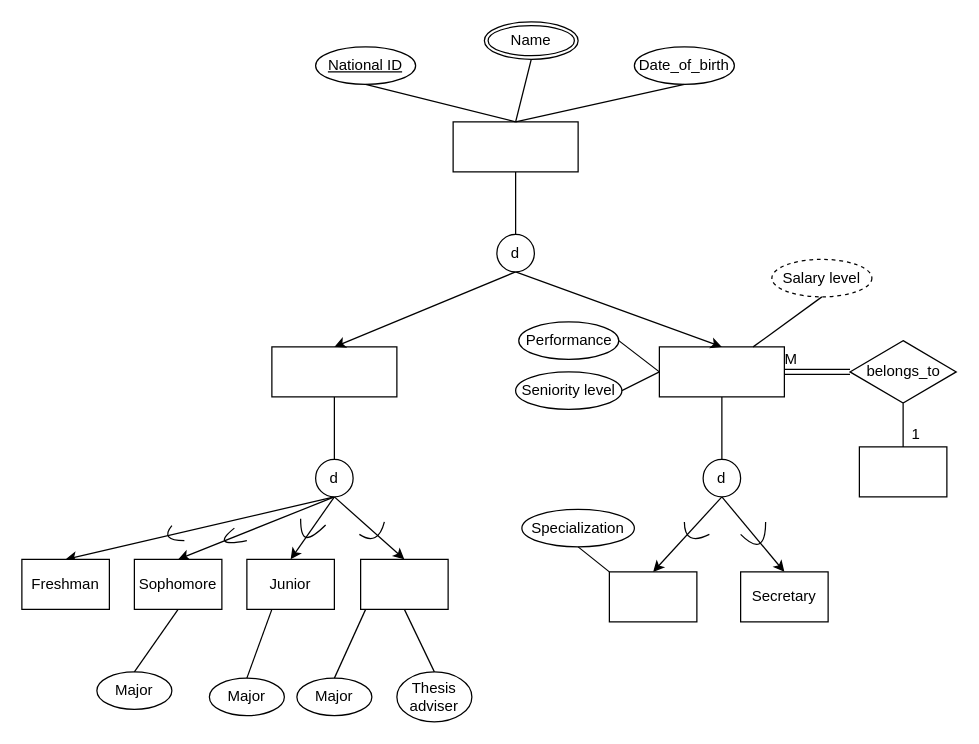
Image size: 979x744. Some labels were removed from this diagram. Here are the shapes that lost their labels. From the top down, the box of each, then its label:
(452, 121, 578, 172): Person
(271, 346, 397, 397): Student
(658, 346, 784, 397): Employee
(858, 446, 947, 497): Department
(359, 558, 448, 609): Senior
(608, 571, 697, 622): Technical worker
